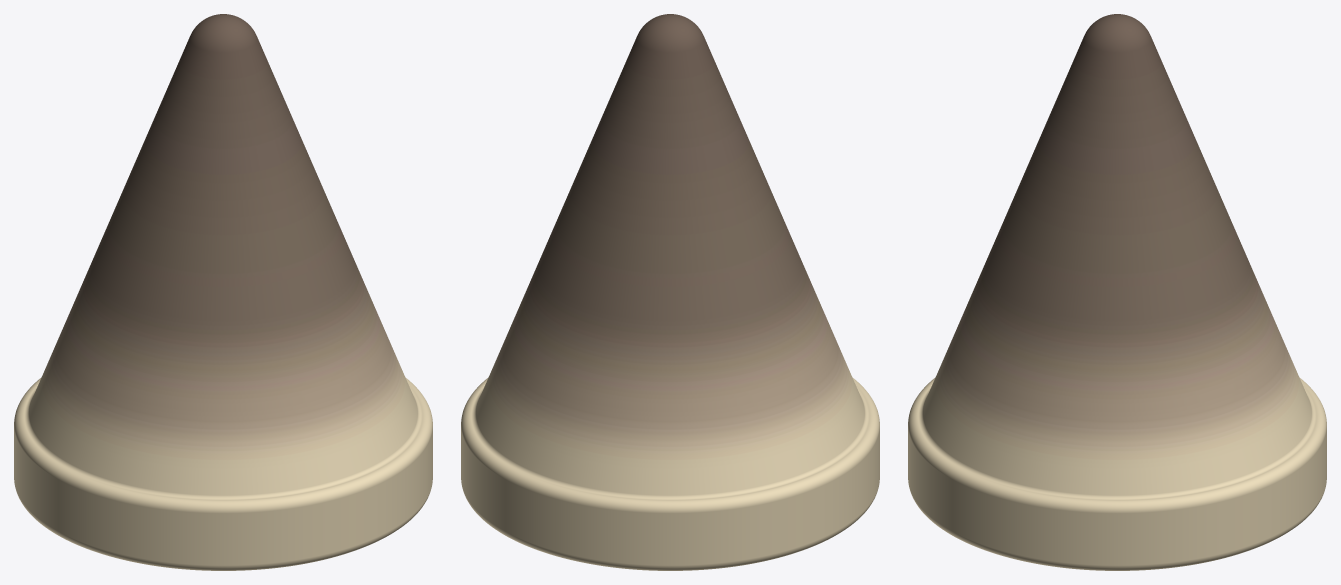
File: pawn-black-hd.glb
3 views of the same model, side by side, from view 1: azimuth 30°, elevation 25°; view 2: azimuth 150°, elevation 25°; view 3: azimuth 270°, elevation 25° (orthographic).
Visible parts, largest first — view 1: MONOLITH Pěšec – Kouř (černý); view 2: MONOLITH Pěšec – Kouř (černý); view 3: MONOLITH Pěšec – Kouř (černý).
Boxes of the visible parts, left/top/right/bottom form: MONOLITH Pěšec – Kouř (černý): left=14, top=14, right=432, bottom=570; MONOLITH Pěšec – Kouř (černý): left=461, top=14, right=879, bottom=570; MONOLITH Pěšec – Kouř (černý): left=908, top=14, right=1326, bottom=570.
Size of the model in its own units: 0.6648 by 0.82 by 0.6648.
1 material, 1 textured.
